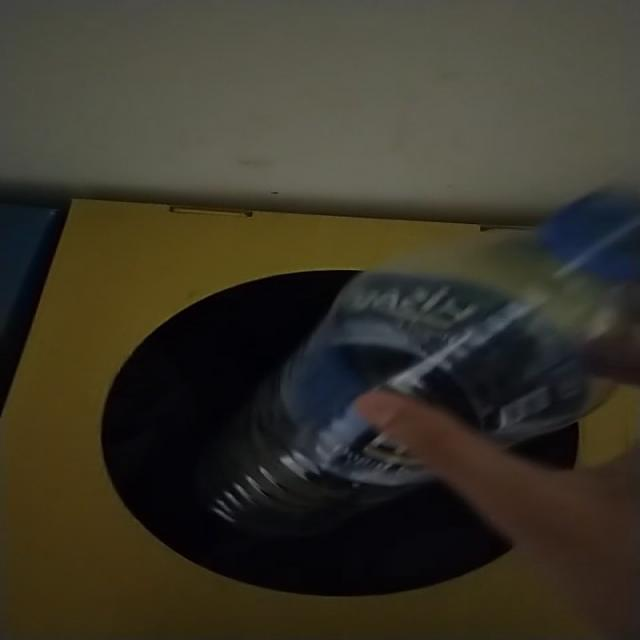plastic: (200, 191, 640, 537)
